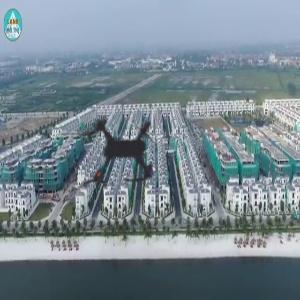drone: (30, 57, 213, 240)
